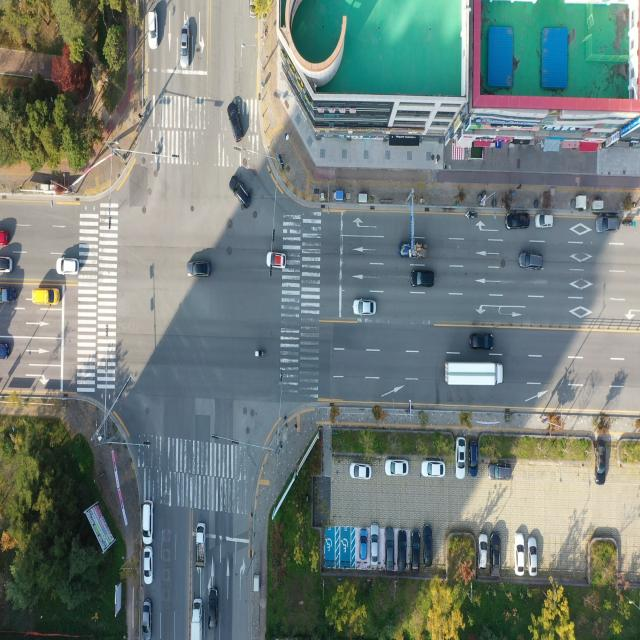car: (231, 176, 253, 211), (230, 102, 245, 144), (33, 287, 61, 305), (208, 587, 220, 629), (140, 601, 152, 640), (142, 500, 152, 546), (488, 462, 512, 481), (454, 436, 465, 476), (184, 262, 207, 281), (520, 252, 544, 270), (492, 532, 502, 575), (423, 523, 433, 566), (514, 536, 524, 578), (412, 530, 422, 572), (596, 441, 608, 476), (386, 459, 409, 477), (386, 529, 396, 570), (422, 461, 446, 478), (596, 216, 620, 233), (412, 272, 435, 289), (508, 213, 531, 230), (359, 299, 382, 316), (148, 11, 158, 50), (397, 532, 407, 571), (180, 27, 189, 70), (143, 547, 153, 585), (468, 440, 478, 478), (354, 301, 376, 318), (58, 260, 80, 277), (470, 335, 492, 352), (369, 528, 378, 568), (268, 252, 288, 270), (350, 464, 371, 481), (529, 537, 538, 576), (481, 534, 490, 569), (359, 526, 368, 560), (535, 214, 553, 228), (0, 257, 13, 275), (0, 342, 10, 362), (0, 231, 10, 249)
medium_truck: (445, 359, 505, 386)
small_truck: (402, 239, 429, 259), (197, 524, 207, 568), (192, 601, 203, 640), (0, 286, 17, 305)
